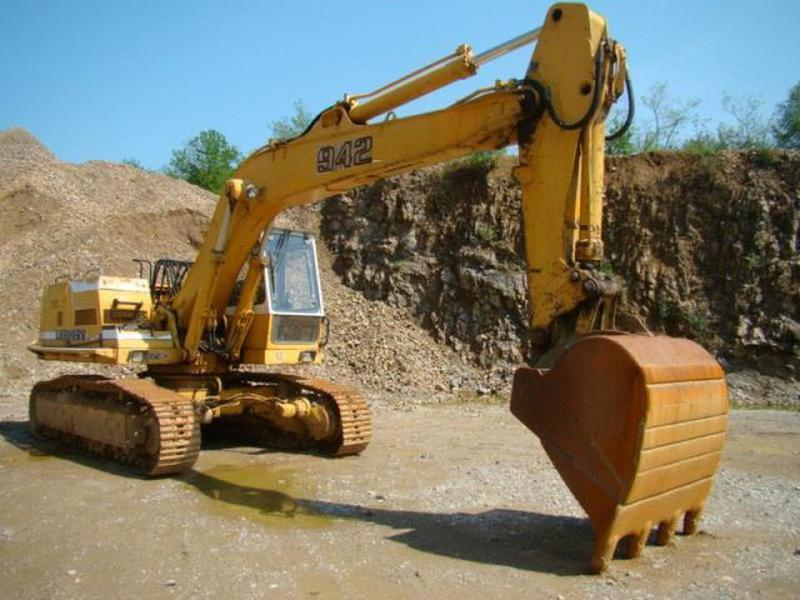shovel: (27, 5, 736, 577)
